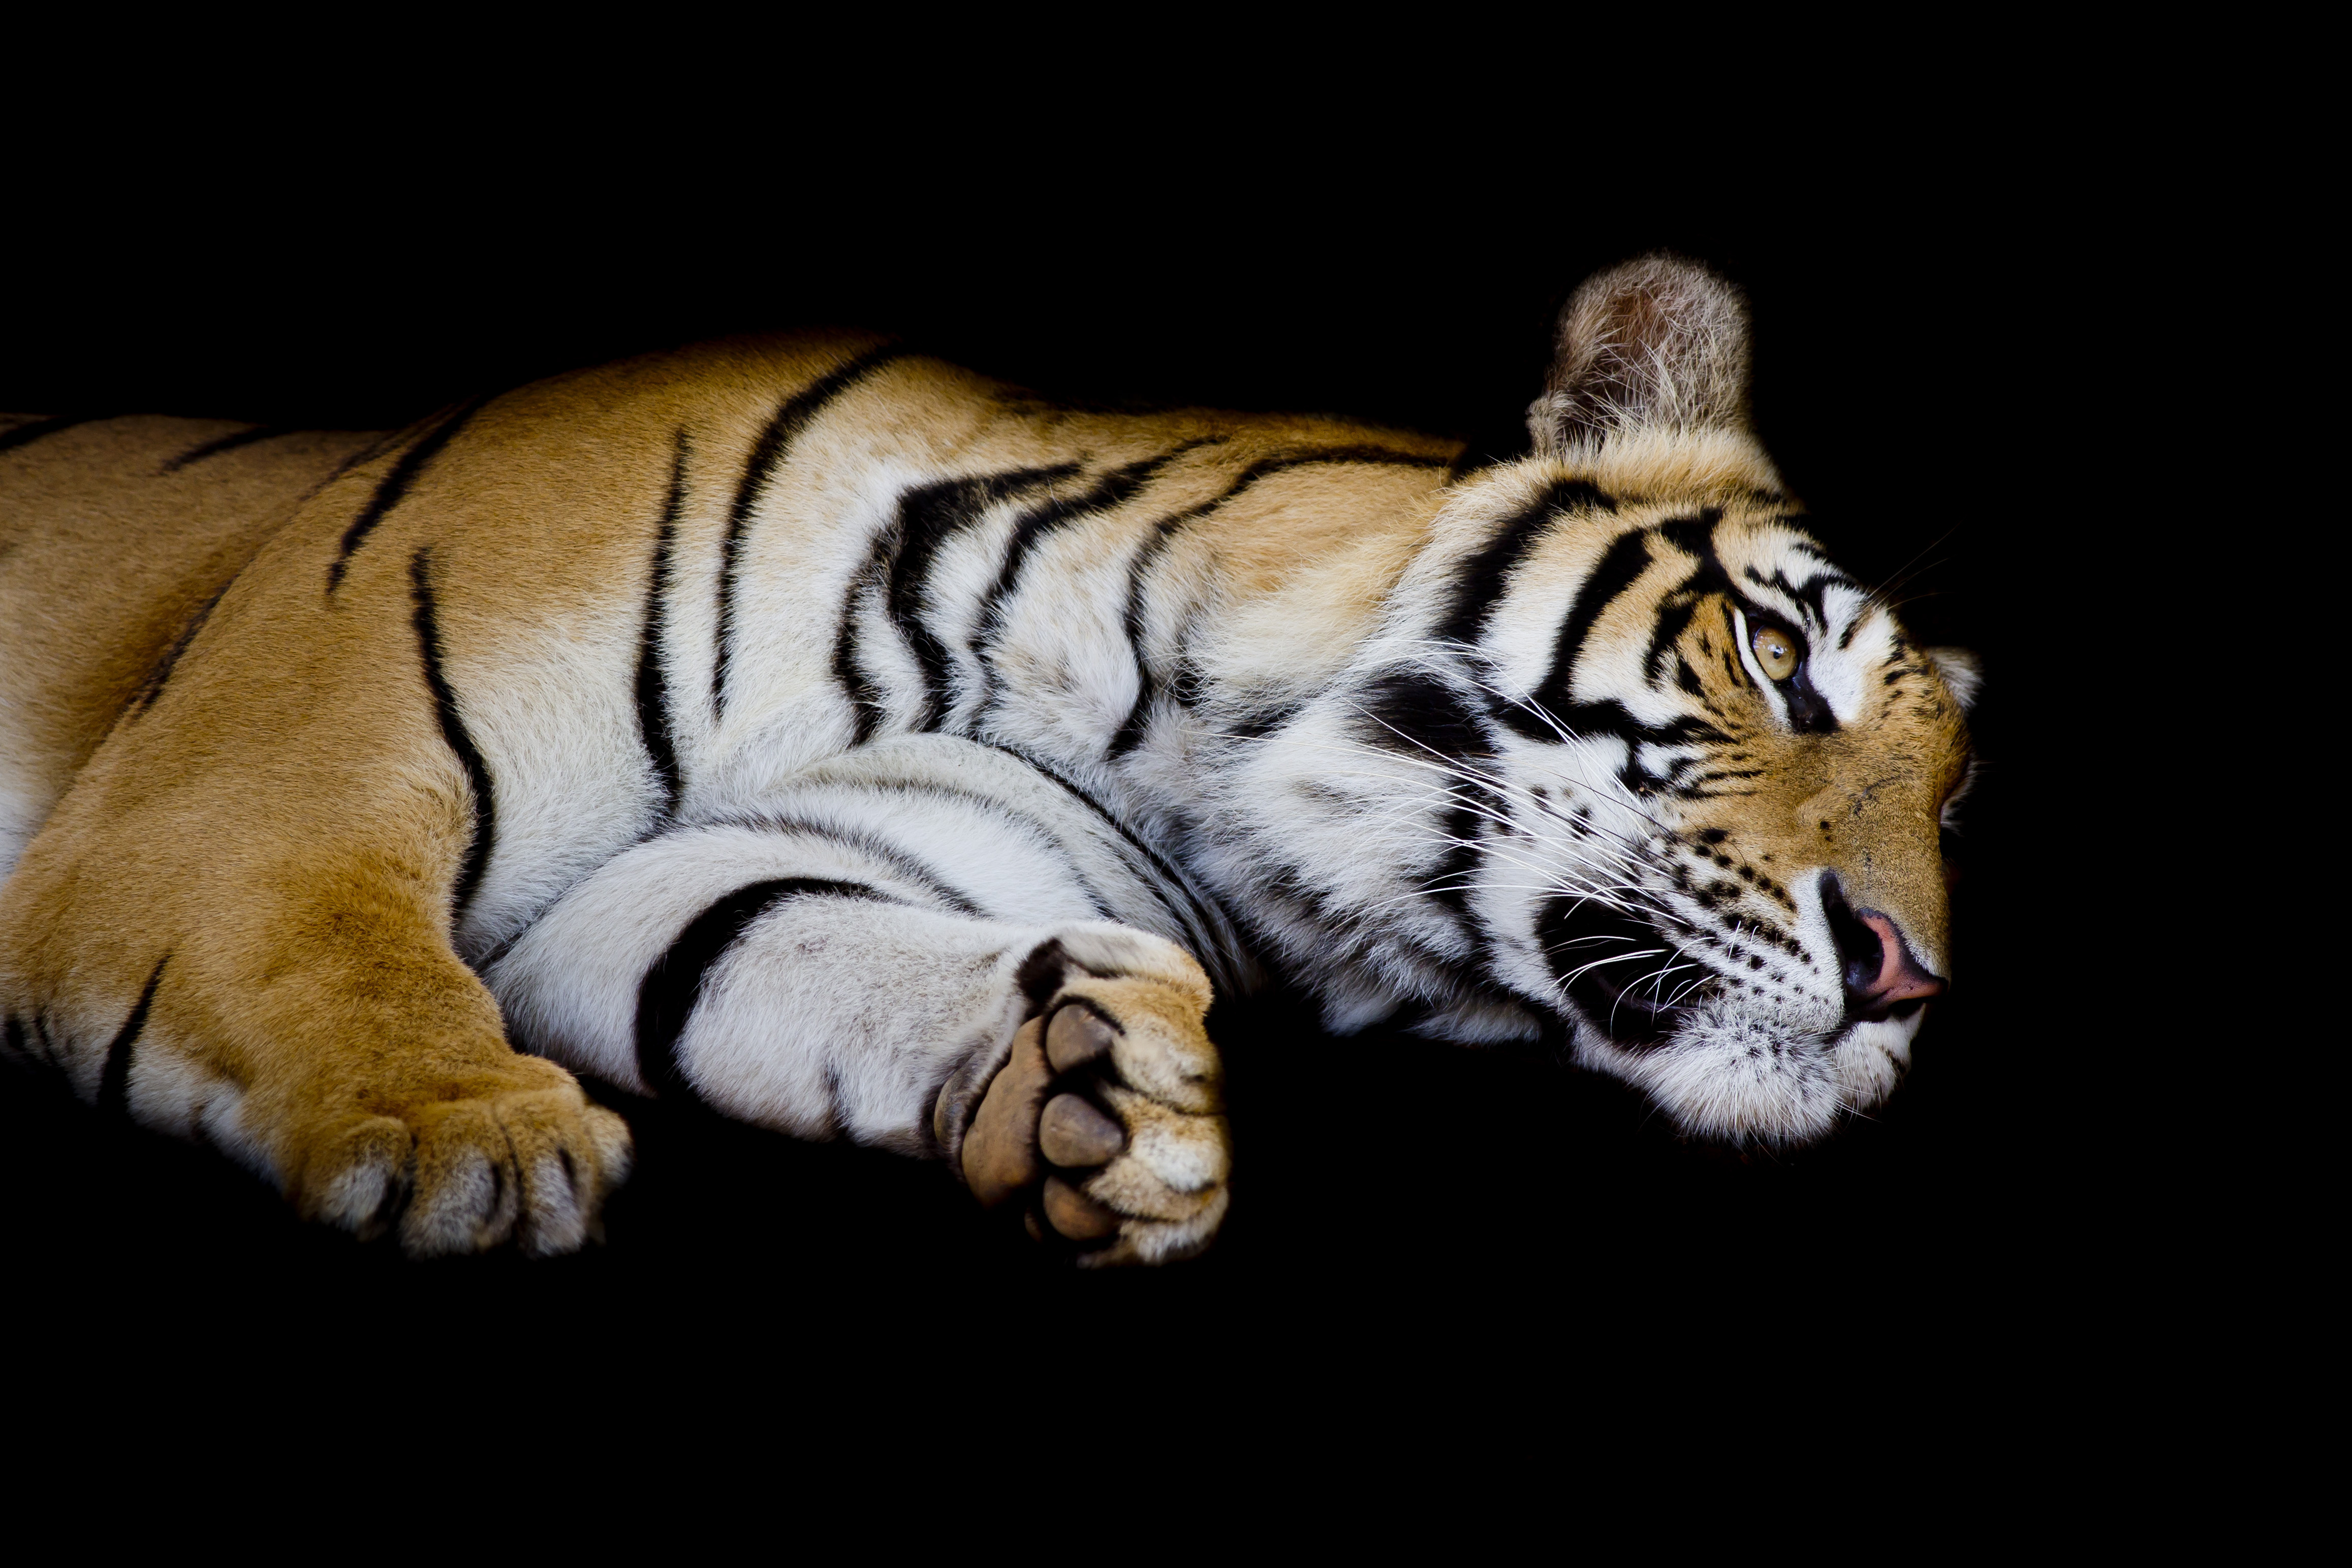tiger: (77, 250, 1951, 1346)
